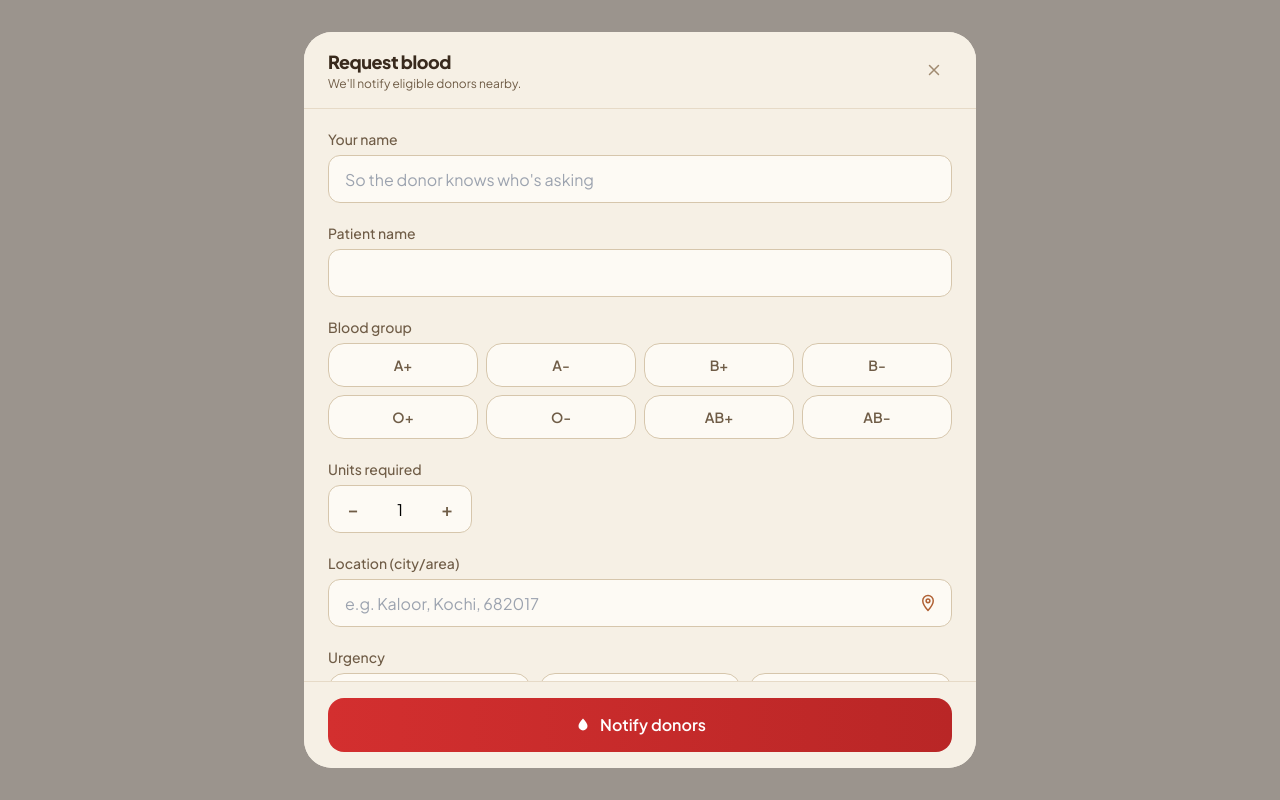
Test: BloodRequestFormModal › TC-CHH-F04-22: shows validation errors after a submit attempt with empty mandatory fields
Click the button "Notify donors".
click(640, 725)  # box [328, 698, 952, 752]
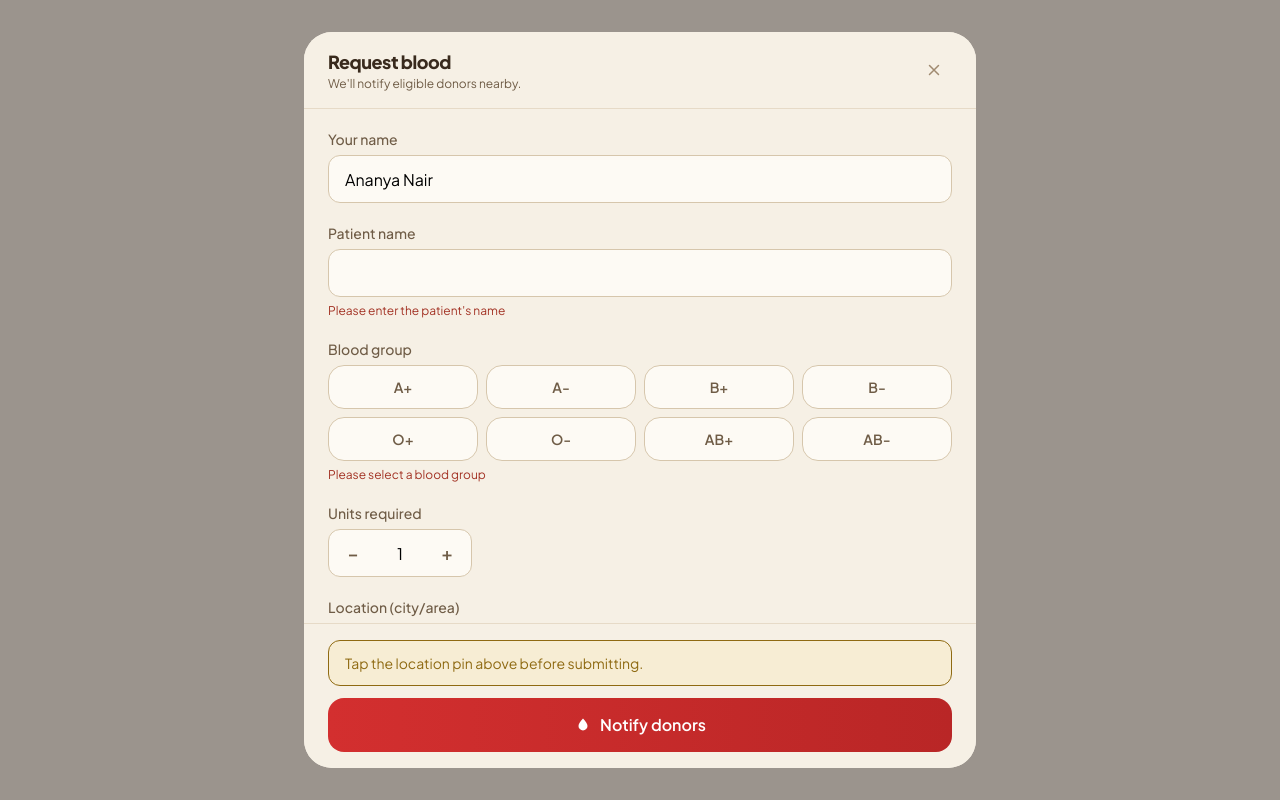
Now the text "Please enter the patient's name" is shown, box [328, 303, 505, 318]
